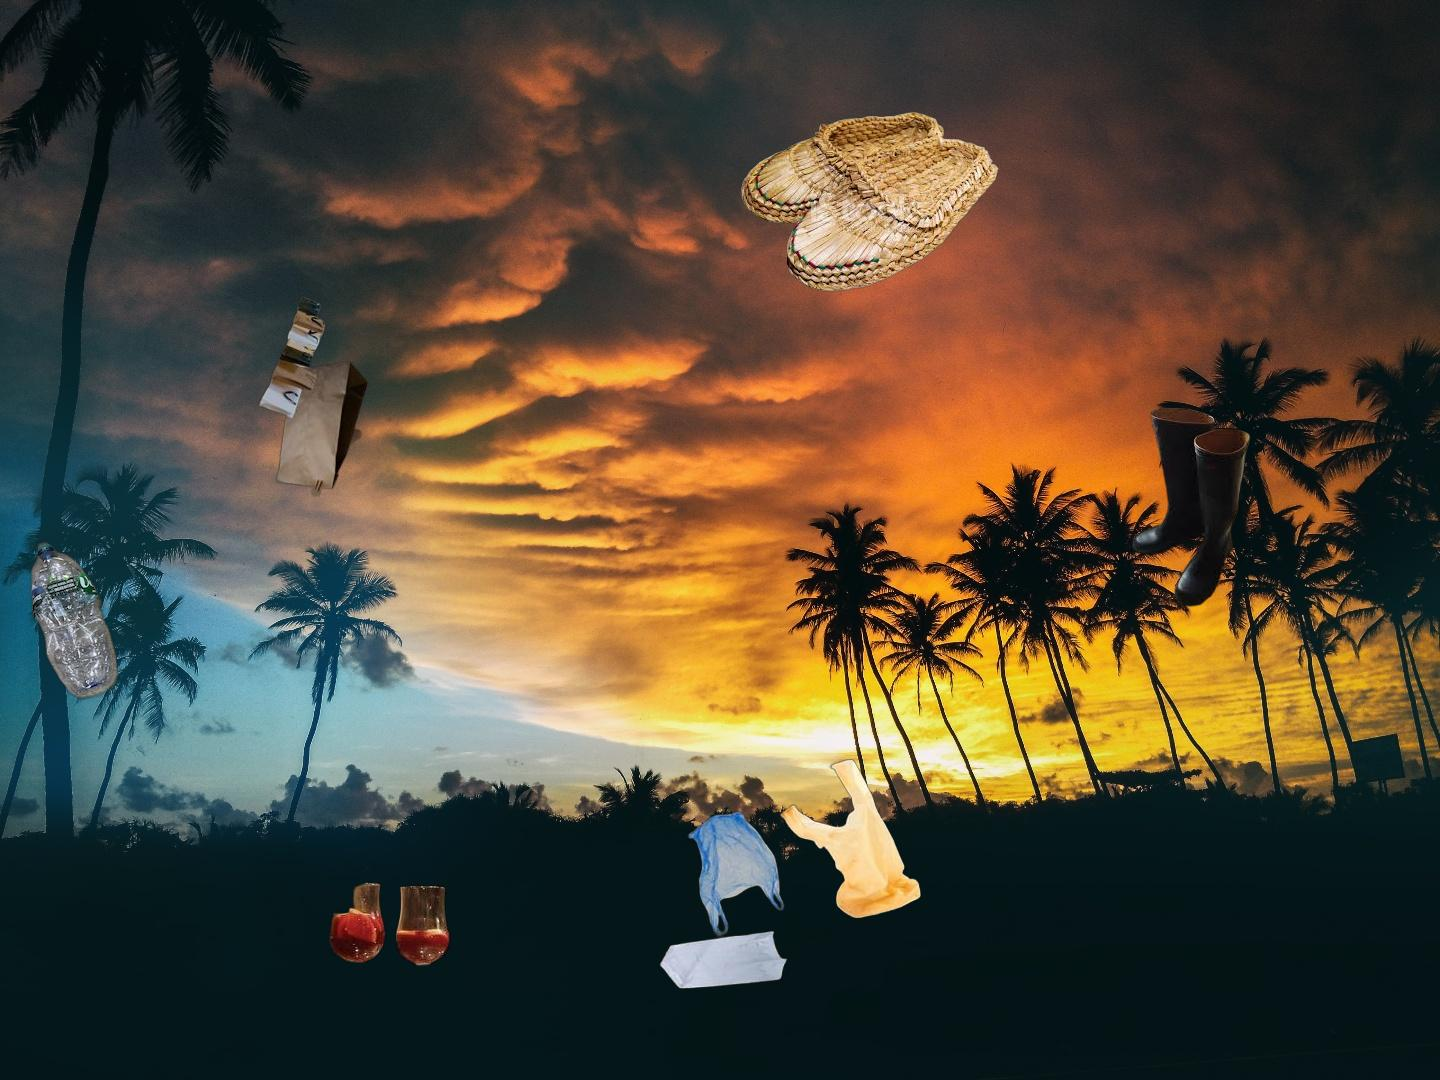paper-bag: (256, 295, 370, 499), (325, 879, 454, 971)
plastic-bag: (657, 756, 922, 992)
plastic-bottles: (27, 537, 121, 704)
shoes: (738, 109, 1002, 295), (1129, 405, 1253, 610)
